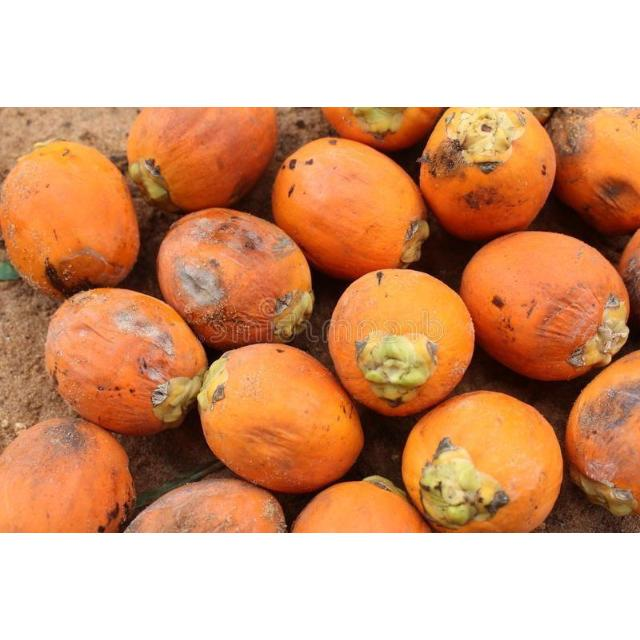good: (464, 235, 626, 378), (198, 346, 358, 490), (46, 290, 204, 432), (274, 136, 428, 280), (156, 210, 314, 348), (2, 143, 138, 300), (404, 393, 560, 529), (333, 271, 471, 413), (420, 109, 552, 239), (128, 109, 276, 214), (3, 418, 133, 530), (567, 354, 639, 516), (550, 109, 640, 233), (324, 108, 444, 148)
